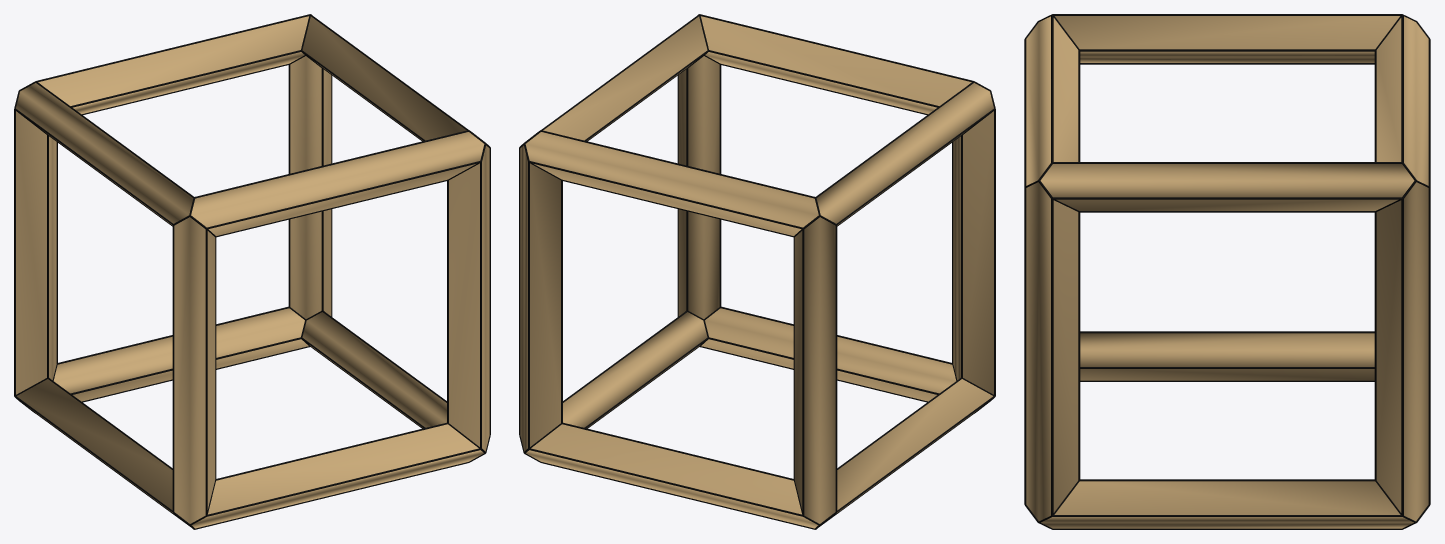
3 views of the same model, side by side, from view 1: azimuth 30°, elevation 25°; view 2: azimuth 150°, elevation 25°; view 3: azimuth 270°, elevation 25° (orthographic). The views are drawn at different scales.
Visible parts, largest first — view 1: arete-Z0, arete-X2, arete-X0, arete-Z1, arete-X3, arete-Z2, arete-Z3, arete-X1, arete-Y2, arete-Y0, arete-Y3, arete-Y1 (+12 smaller); view 2: arete-Z2, arete-X3, arete-X1, arete-Z3, arete-X2, arete-Z0, arete-Z1, arete-X0, arete-Y2, arete-Y0, arete-Y3, arete-Y1 (+12 smaller); view 3: arete-Y3, arete-Z1, arete-Z3, arete-Y1, arete-Y2, arete-Y0, arete-X2, arete-X3, arete-wire-Z1, arete-wire-Z3, arete-wire-Y1, arete-wire-Y3 (+4 smaller).
Boxes of the visible parts, left/top/right/bottom form: arete-Z0: left=174, top=217, right=215, bottom=523; arete-X2: left=191, top=132, right=484, bottom=235; arete-X0: left=191, top=424, right=483, bottom=528; arete-Z1: left=449, top=145, right=489, bottom=451; arete-X3: left=38, top=16, right=308, bottom=114; arete-Z2: left=16, top=111, right=56, bottom=394; arete-Z3: left=290, top=56, right=331, bottom=318; arete-X1: left=53, top=308, right=308, bottom=401; arete-Y2: left=16, top=83, right=193, bottom=225; arete-Y0: left=17, top=379, right=172, bottom=512; arete-Y3: left=302, top=16, right=466, bottom=140; arete-Y1: left=302, top=312, right=446, bottom=427; arete-Z2: left=794, top=217, right=835, bottom=523; arete-X3: left=525, top=132, right=818, bottom=235; arete-X1: left=526, top=424, right=818, bottom=528; arete-Z3: left=520, top=145, right=560, bottom=451; arete-X2: left=701, top=16, right=971, bottom=114; arete-Z0: left=953, top=111, right=993, bottom=394; arete-Z1: left=678, top=56, right=719, bottom=318; arete-X0: left=701, top=308, right=956, bottom=401; arete-Y2: left=816, top=83, right=993, bottom=225; arete-Y0: left=837, top=379, right=992, bottom=512; arete-Y3: left=543, top=16, right=707, bottom=140; arete-Y1: left=563, top=312, right=707, bottom=427; arete-Y3: left=1040, top=164, right=1414, bottom=210; arete-Z1: left=1026, top=182, right=1078, bottom=521; arete-Z3: left=1376, top=182, right=1428, bottom=521; arete-Y1: left=1041, top=481, right=1413, bottom=528; arete-Y2: left=1055, top=16, right=1399, bottom=62; arete-Y0: left=1080, top=333, right=1374, bottom=380; arete-X2: left=1026, top=16, right=1078, bottom=185; arete-X3: left=1376, top=16, right=1428, bottom=185; arete-wire-Z1: left=1024, top=180, right=1080, bottom=516; arete-wire-Z3: left=1374, top=187, right=1430, bottom=516; arete-wire-Y1: left=1038, top=479, right=1416, bottom=529; arete-wire-Y3: left=1052, top=162, right=1416, bottom=212.
Size of the model in its own units: 0.4309 by 0.4309 by 0.4309.
